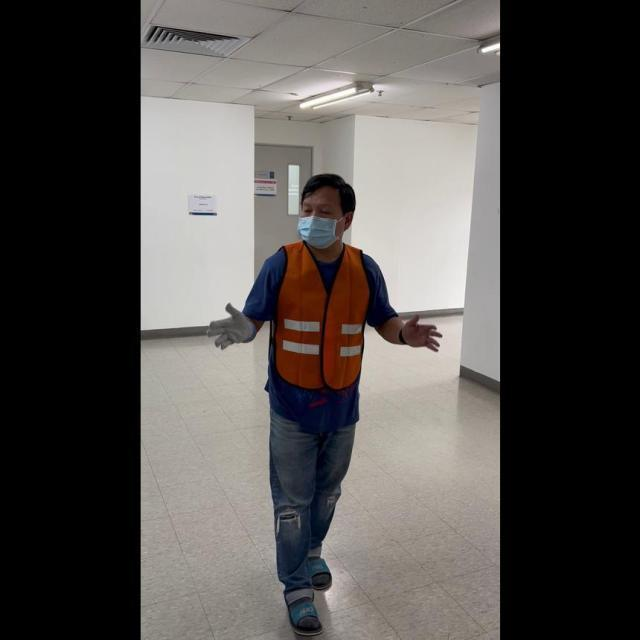bare_hand: (398, 310, 442, 353)
gloved_hand: (206, 298, 257, 351)
